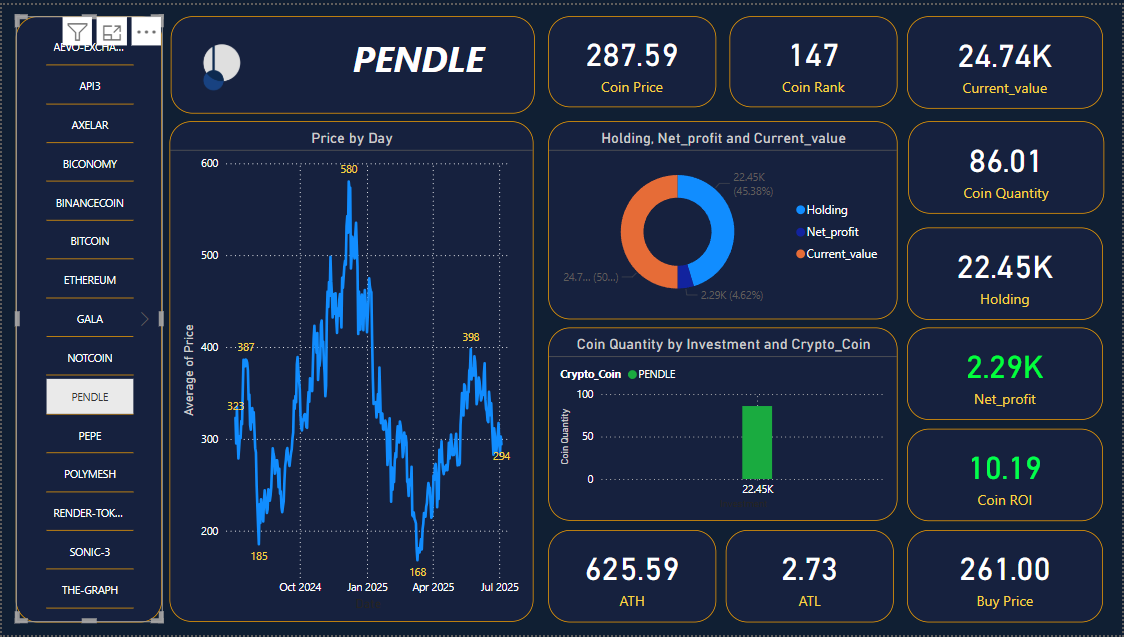

Layout of this report page (visuals, bound fields, positions):
{"tool":"powerbi","page":{"name":"Coin Details","canvas":[1280,720],"ordinal":1},"visuals":[{"type":"slicer","fields":{"Values":["Portfolio.Crypto_Coin"]},"box":[15.7,12.9,167.1,692.9],"z":0},{"type":"card","fields":{"Values":["Portfolio.Coin Price"]},"box":[624.4,12.3,192.1,104.3],"z":1000},{"type":"card","fields":{"Values":["Portfolio.ATH"]},"box":[624.4,599.7,192.1,105.7],"z":2000},{"type":"card","fields":{"Values":["Portfolio.Coin Quantity"]},"box":[1035.7,132.9,224.3,105.7],"z":3000},{"type":"card","fields":{"Values":["Portfolio.ATL"]},"box":[827.4,599.7,192.1,105.7],"z":4000},{"type":"card","fields":{"Values":["Portfolio.Coin ROI"]},"box":[1034.3,484.3,224.3,105.7],"z":5000},{"type":"card","fields":{"Values":["Portfolio.Holding"]},"box":[1034.3,254.3,224.3,105.7],"z":6000},{"type":"card","fields":{"Values":["Portfolio.Net_Profit"]},"box":[1034.3,12.9,224.3,105.7],"z":7000},{"type":"card","fields":{"Values":["Portfolio.Net_profit"]},"box":[1034.3,368.6,224.3,105.7],"z":8000},{"type":"lineChart","title":" Price by Day","fields":{"Category":["Historical coin data.Date"],"Y":["Avg(Historical coin data.Price)"]},"box":[192.1,133.1,415.8,572.2],"z":9000},{"type":"ribbonChart","fields":{"Y":["Portfolio.Coin Quantity"],"Series":["Portfolio.Crypto_Coin"],"Category":["Portfolio.Investment"]},"box":[624.4,369.1,399.3,220.9],"z":10000},{"type":"donutChart","title":"Holding, Net_profit and Current_value","fields":{"Y":["Portfolio.Holding","Portfolio.Net_profit","Portfolio.Current_value"]},"box":[624.4,133.1,399.3,226.4],"z":11000},{"type":"card","fields":{"Values":["Portfolio.Buy Price"]},"box":[1034.3,600,224.3,105.7],"z":12000},{"type":"card","fields":{"Values":["Portfolio.Coin Rank"]},"box":[831.6,12.3,192.1,104.3],"z":13000},{"type":"multiRowCard","fields":{"Values":["Crypto_coin data.image1","Portfolio.Coin Name"]},"box":[193.5,12.3,415.8,111.1],"z":14000},{"type":"actionButton","box":[290,32.9,100,64.3],"z":15000}]}

Visuals, with their boxes on the page's 1280x720 design canvas (x1, y1, x2, y2). These are canvas units, not pixel positions in the 1124x637 screenshot, which may show the page scaled, cropped or inside an application window:
slicer - Portfolio.Crypto_Coin: bbox=[16, 13, 183, 706]
card - Portfolio.Coin Price: bbox=[624, 12, 816, 117]
card - Portfolio.ATH: bbox=[624, 600, 816, 705]
card - Portfolio.Coin Quantity: bbox=[1036, 133, 1260, 239]
card - Portfolio.ATL: bbox=[827, 600, 1020, 705]
card - Portfolio.Coin ROI: bbox=[1034, 484, 1259, 590]
card - Portfolio.Holding: bbox=[1034, 254, 1259, 360]
card - Portfolio.Net_Profit: bbox=[1034, 13, 1259, 119]
card - Portfolio.Net_profit: bbox=[1034, 369, 1259, 474]
" Price by Day" lineChart: bbox=[192, 133, 608, 705]
ribbonChart - Portfolio.Coin Quantity x Portfolio.Crypto_Coin: bbox=[624, 369, 1024, 590]
"Holding, Net_profit and Current_value" donutChart: bbox=[624, 133, 1024, 360]
card - Portfolio.Buy Price: bbox=[1034, 600, 1259, 706]
card - Portfolio.Coin Rank: bbox=[832, 12, 1024, 117]
multiRowCard - Crypto_coin data.image1 x Portfolio.Coin Name: bbox=[194, 12, 609, 123]
actionButton: bbox=[290, 33, 390, 97]
